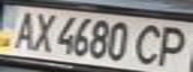0: (106, 18, 136, 62)
4: (51, 12, 78, 56)
6: (69, 15, 93, 57)
8: (87, 17, 115, 61)
A: (6, 8, 42, 51)
C: (130, 20, 172, 68)
P: (151, 22, 193, 70)
X: (27, 9, 57, 53)
